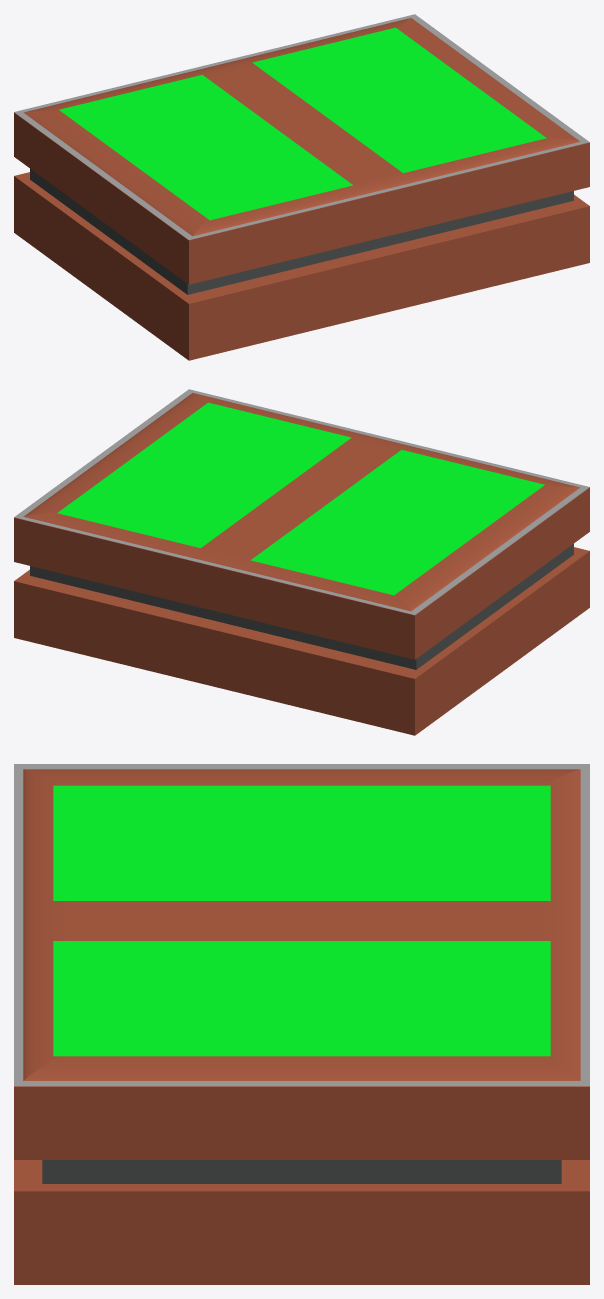
Rendered from block_vs.glb.
3 renders of one model, top to bottom at view 1: azimuth 30°, elevation 25°; view 2: azimuth 150°, elevation 25°; view 3: azimuth 270°, elevation 25°, orthographic. The views are drawn at different scales.
Visible parts, largest first — view 1: Cube.018, Cube.020, Cube.001, Cube.003, Cube.002, Cube.019, Cube.004; view 2: Cube.018, Cube.020, Cube.001, Cube.003, Cube.002, Cube.019, Cube.004; view 3: Cube.001, Cube.018, Cube.003, Cube.002, Cube.020, Cube.004, Cube.019.
Boxes of the visible parts, bbox=[...] form: Cube.018: bbox=[14, 172, 589, 360]; Cube.020: bbox=[14, 112, 589, 284]; Cube.001: bbox=[23, 18, 580, 236]; Cube.003: bbox=[252, 27, 546, 173]; Cube.002: bbox=[59, 74, 352, 220]; Cube.019: bbox=[30, 169, 573, 294]; Cube.004: bbox=[14, 14, 589, 239]; Cube.018: bbox=[14, 547, 589, 735]; Cube.020: bbox=[14, 487, 589, 659]; Cube.001: bbox=[23, 393, 580, 611]; Cube.003: bbox=[57, 402, 351, 548]; Cube.002: bbox=[251, 449, 544, 595]; Cube.019: bbox=[30, 544, 573, 669]; Cube.004: bbox=[14, 389, 589, 614]; Cube.001: bbox=[23, 769, 580, 1080]; Cube.018: bbox=[14, 1160, 589, 1284]; Cube.003: bbox=[53, 941, 550, 1056]; Cube.002: bbox=[53, 785, 550, 900]; Cube.020: bbox=[14, 1086, 589, 1159]; Cube.004: bbox=[14, 764, 589, 1086]; Cube.019: bbox=[42, 1160, 561, 1183].
Size of the model in its own units: 0.8791 by 0.259 by 0.6643.
